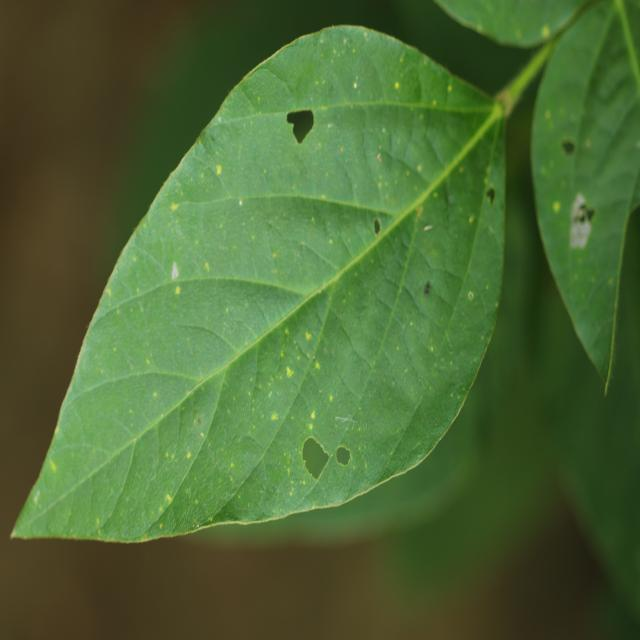Soybean: (10, 0, 640, 640)
downey_mildew: (274, 108, 487, 492), (193, 28, 485, 246), (26, 288, 276, 531), (116, 95, 251, 294), (273, 259, 394, 429), (183, 111, 367, 216), (74, 287, 258, 387), (20, 389, 139, 534), (358, 98, 487, 215), (252, 235, 339, 406), (555, 197, 632, 382), (380, 340, 477, 486), (61, 368, 211, 461), (223, 315, 312, 467), (167, 194, 297, 286), (578, 9, 639, 191), (163, 279, 309, 354), (404, 186, 474, 328), (210, 194, 387, 250), (203, 438, 308, 527), (160, 371, 228, 487), (98, 223, 182, 309), (381, 45, 485, 111), (258, 222, 349, 289), (133, 469, 218, 540), (192, 106, 398, 135), (312, 37, 398, 105), (438, 259, 495, 359), (85, 425, 136, 527), (327, 99, 377, 198), (371, 144, 432, 211), (307, 97, 482, 118), (409, 270, 458, 343), (231, 66, 298, 114), (173, 324, 239, 368), (187, 164, 230, 207), (424, 125, 456, 174)
